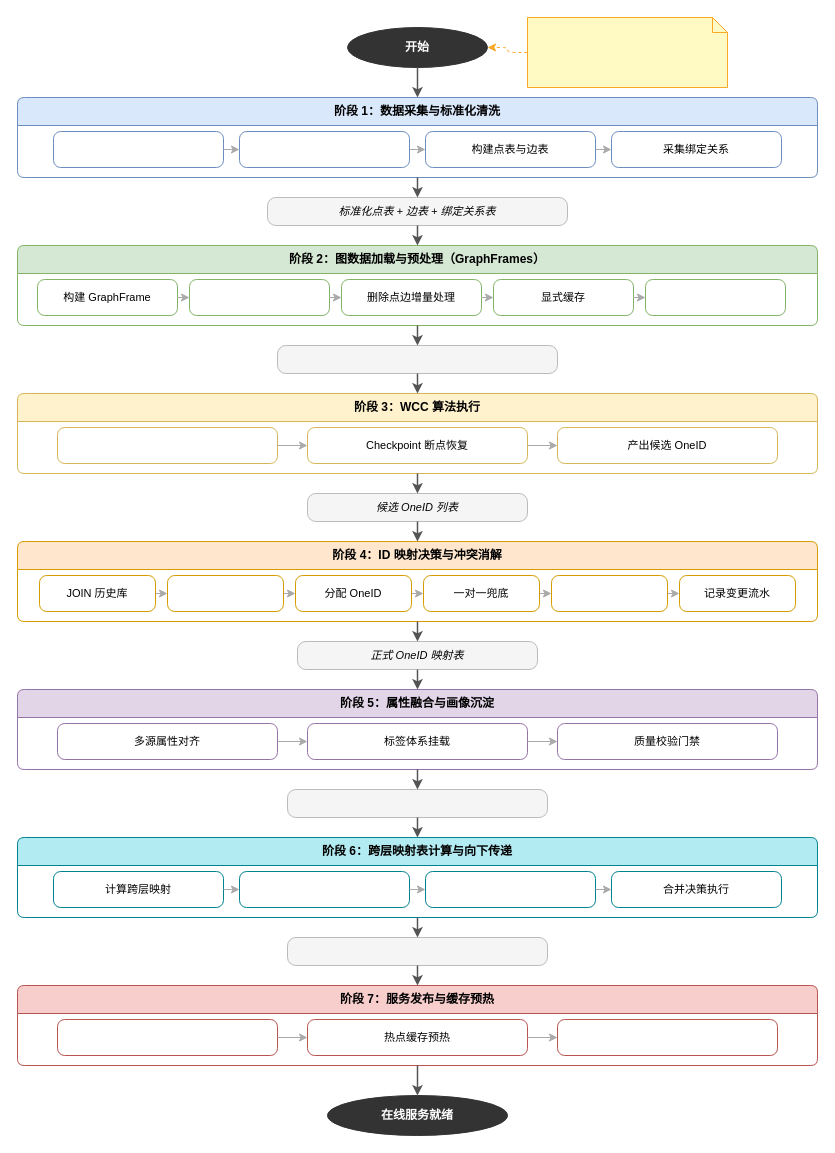
This 835x1153 diagram has some shape labels left out. Each missing label, with the centre of its shape:
"OneID 宽表（含画像）" belongs at pixel 417 803.
"冲突检测" belongs at pixel 510 889.
"原始 ID 标识数据 来自各业务渠道 手机号、邮箱、设备 ID OpenID、Cookie ID 等" belongs at pixel 627 52.
"向下查询" belongs at pixel 324 889.
"多存储引擎写入" belongs at pixel 167 1037.
"归一化处理" belongs at pixel 138 149.
"执行 WCC 算法" belongs at pixel 167 445.
"版本快照与回滚" belongs at pixel 667 1037.
"生成映射表" belongs at pixel 609 593.
"脏数据过滤" belongs at pixel 324 149.
"融合/分裂判定" belongs at pixel 225 593.
"设置 Checkpoint" belongs at pixel 715 297.
"超级节点剪枝" belongs at pixel 259 297.
"跨层映射表 + 合并建议" belongs at pixel 417 951.
"预处理完成的 GraphFrame" belongs at pixel 417 359.
